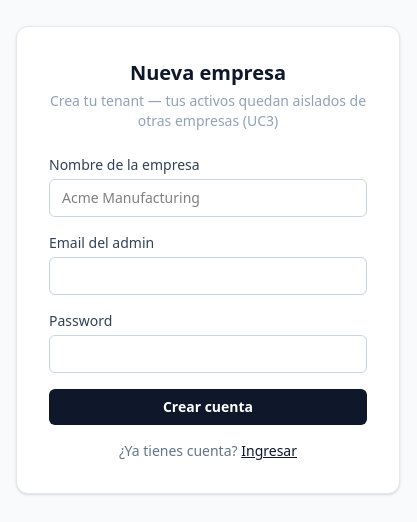
Test: RegisterPage › deriva el slug del nombre de la empresa en vivo
Type "Acme Manufacturing Co." into the field labelled "Nombre de la empresa". click: (208, 198)
box: [49, 179, 367, 217]
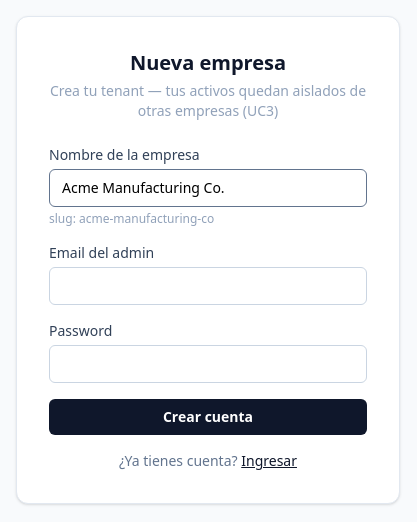
Now the text "slug: acme-manufacturing-co" is shown, box [49, 210, 214, 227]
